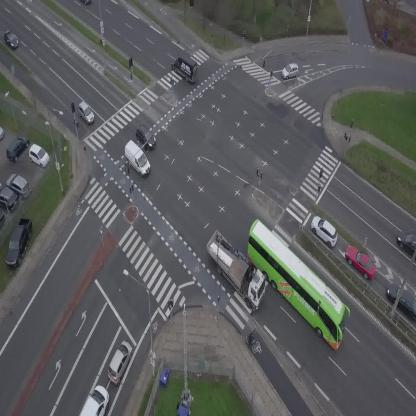bicycle: (244, 332, 260, 354)
bus: (229, 216, 364, 352)
car: (340, 240, 382, 284), (103, 339, 137, 386), (305, 211, 343, 249), (80, 382, 115, 416), (132, 123, 159, 151), (73, 100, 98, 127), (397, 232, 416, 261), (0, 28, 21, 51), (280, 62, 301, 80), (80, 0, 92, 5)
lorry: (197, 225, 278, 314), (117, 139, 156, 178), (169, 51, 204, 85)
